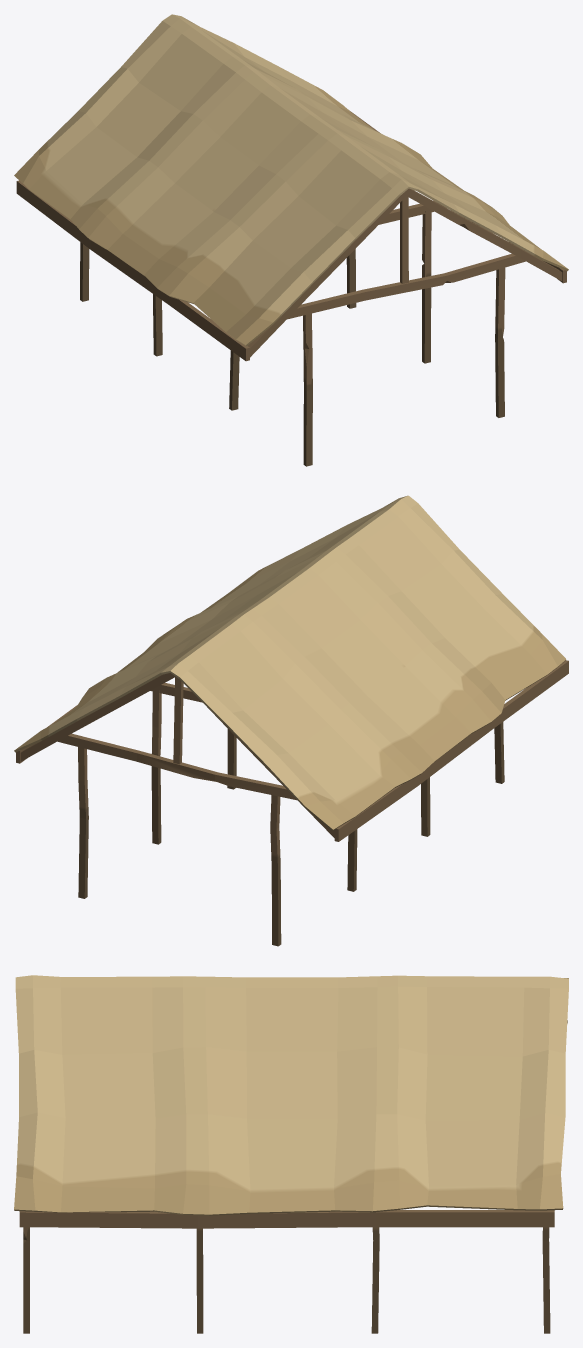
File: SM_Bld_Tent_Shelter_01.glb
The picture shows the model from 3 angles, top to bottom: view 1: azimuth 30°, elevation 25°; view 2: azimuth 150°, elevation 25°; view 3: azimuth 270°, elevation 25°; orthographic projection. The views are drawn at different scales.
Visible parts, largest first — view 1: SM_Bld_Tent_Shelter_01; view 2: SM_Bld_Tent_Shelter_01; view 3: SM_Bld_Tent_Shelter_01.
Part boxes in pixels (<box>): SM_Bld_Tent_Shelter_01: <box>14,14,568,466</box>; SM_Bld_Tent_Shelter_01: <box>14,495,568,946</box>; SM_Bld_Tent_Shelter_01: <box>14,975,568,1333</box>.
Size of the model in its own units: 7.78 by 5.8 by 9.6.
Materials: 1 (1 with a texture image).
